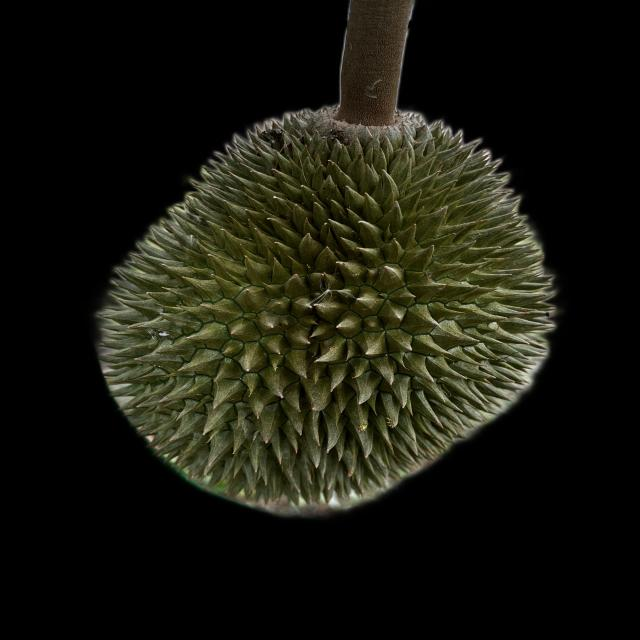immature: (92, 107, 558, 508)
